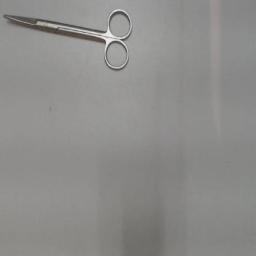Curved Mayo Scissors: (2, 6, 134, 76)
